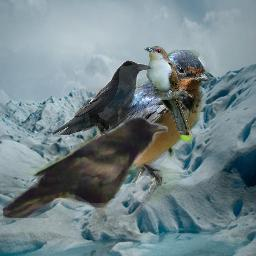Crow: (3, 115, 168, 218), (51, 60, 152, 144)
Cuckoo: (144, 46, 193, 142)
Swallow: (22, 50, 211, 209)
